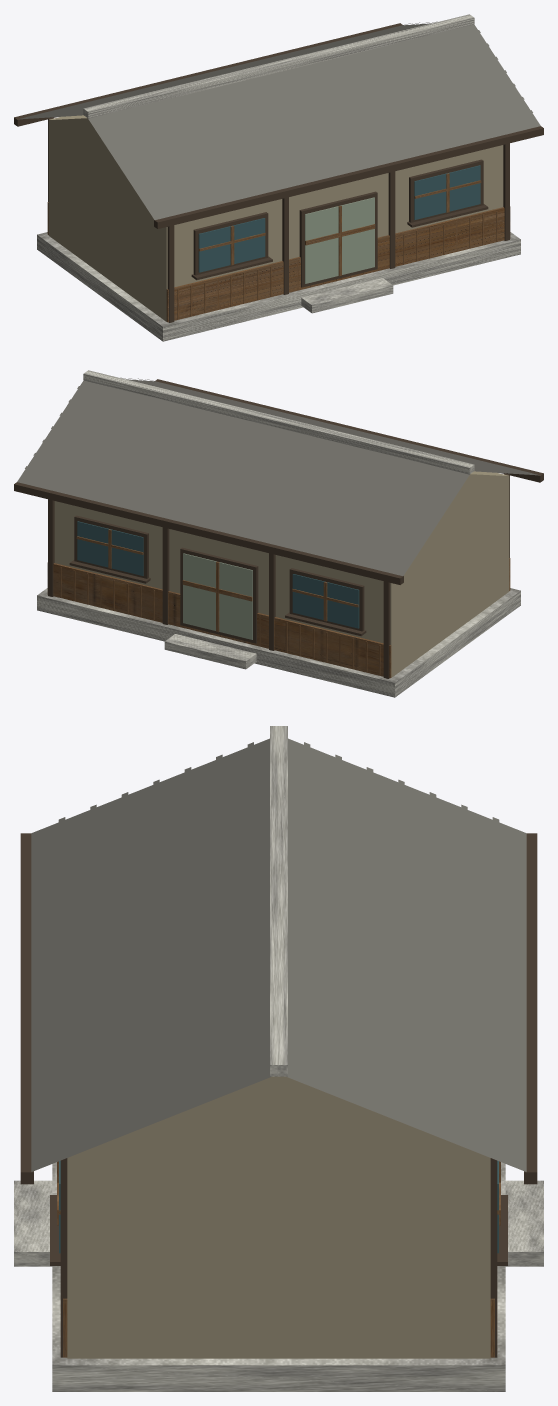
File: village-house-light.obj
The picture shows the model from 3 angles, top to bottom: view 1: azimuth 30°, elevation 25°; view 2: azimuth 150°, elevation 25°; view 3: azimuth 270°, elevation 25°; orthographic projection. The views are drawn at different scales.
Bounding box in the file's own units: 9.02 × 4.21 × 5.96.
Materials: 9 (5 with a texture image).
